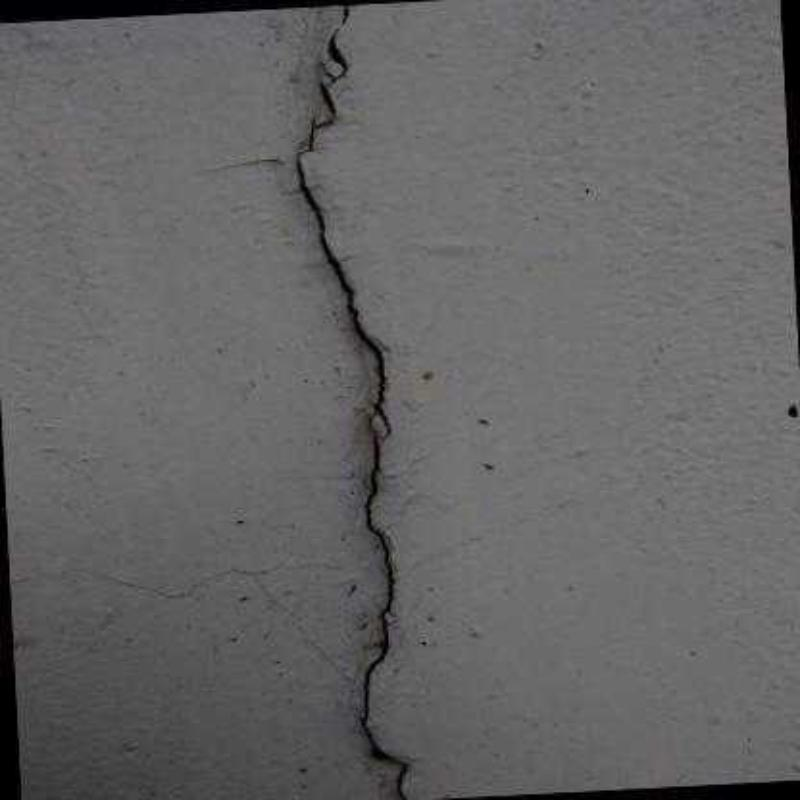pothole: (71, 562, 348, 683), (296, 116, 391, 438), (361, 411, 409, 800), (326, 5, 349, 87), (315, 82, 336, 129)
